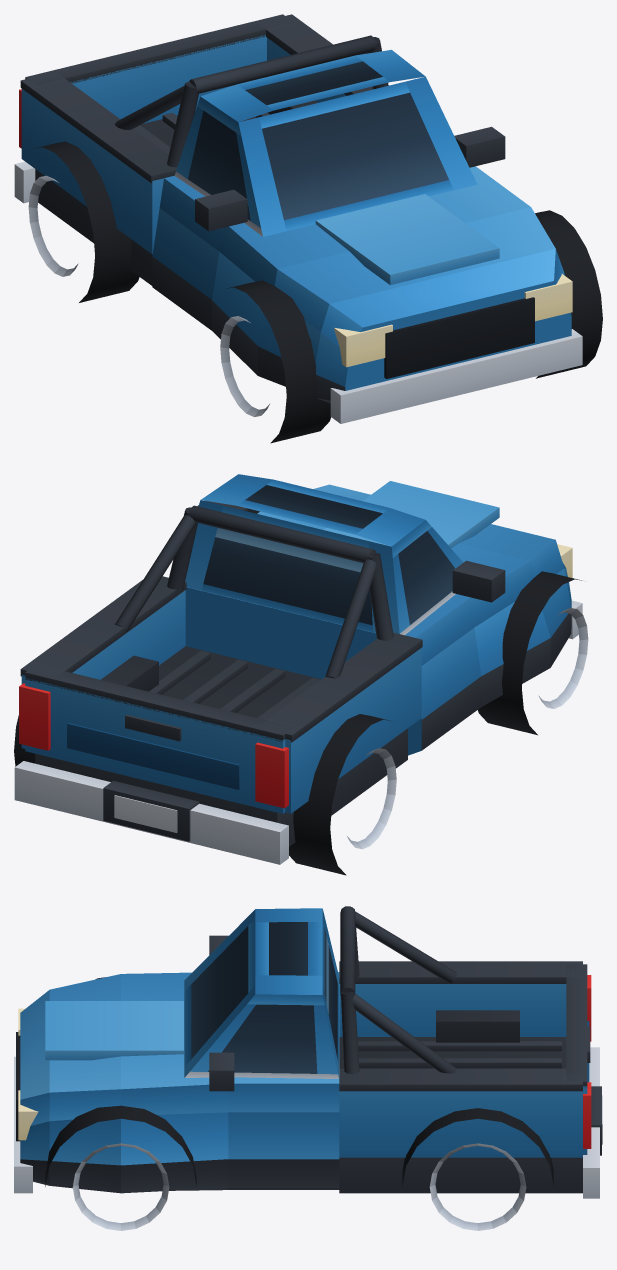
File: truck-flat.glb
The picture shows the model from 3 angles, top to bottom: view 1: azimuth 30°, elevation 25°; view 2: azimuth 150°, elevation 25°; view 3: azimuth 270°, elevation 25°; orthographic projection. The views are drawn at different scales.
Parts seen in each view (by area): view 1: body, wheel-set; view 2: body, wheel-set; view 3: body, wheel-set.
Boxes of the visible parts, x1,y1,x2,y2 form: body: (14,14,582,423); wheel-set: (28,141,602,443); body: (14,474,582,864); wheel-set: (14,508,588,875); body: (14,906,602,1198); wheel-set: (45,977,553,1230).
Size of the model in its own units: 1.63 by 1.24 by 2.8.
Materials: 1 (1 with a texture image).
